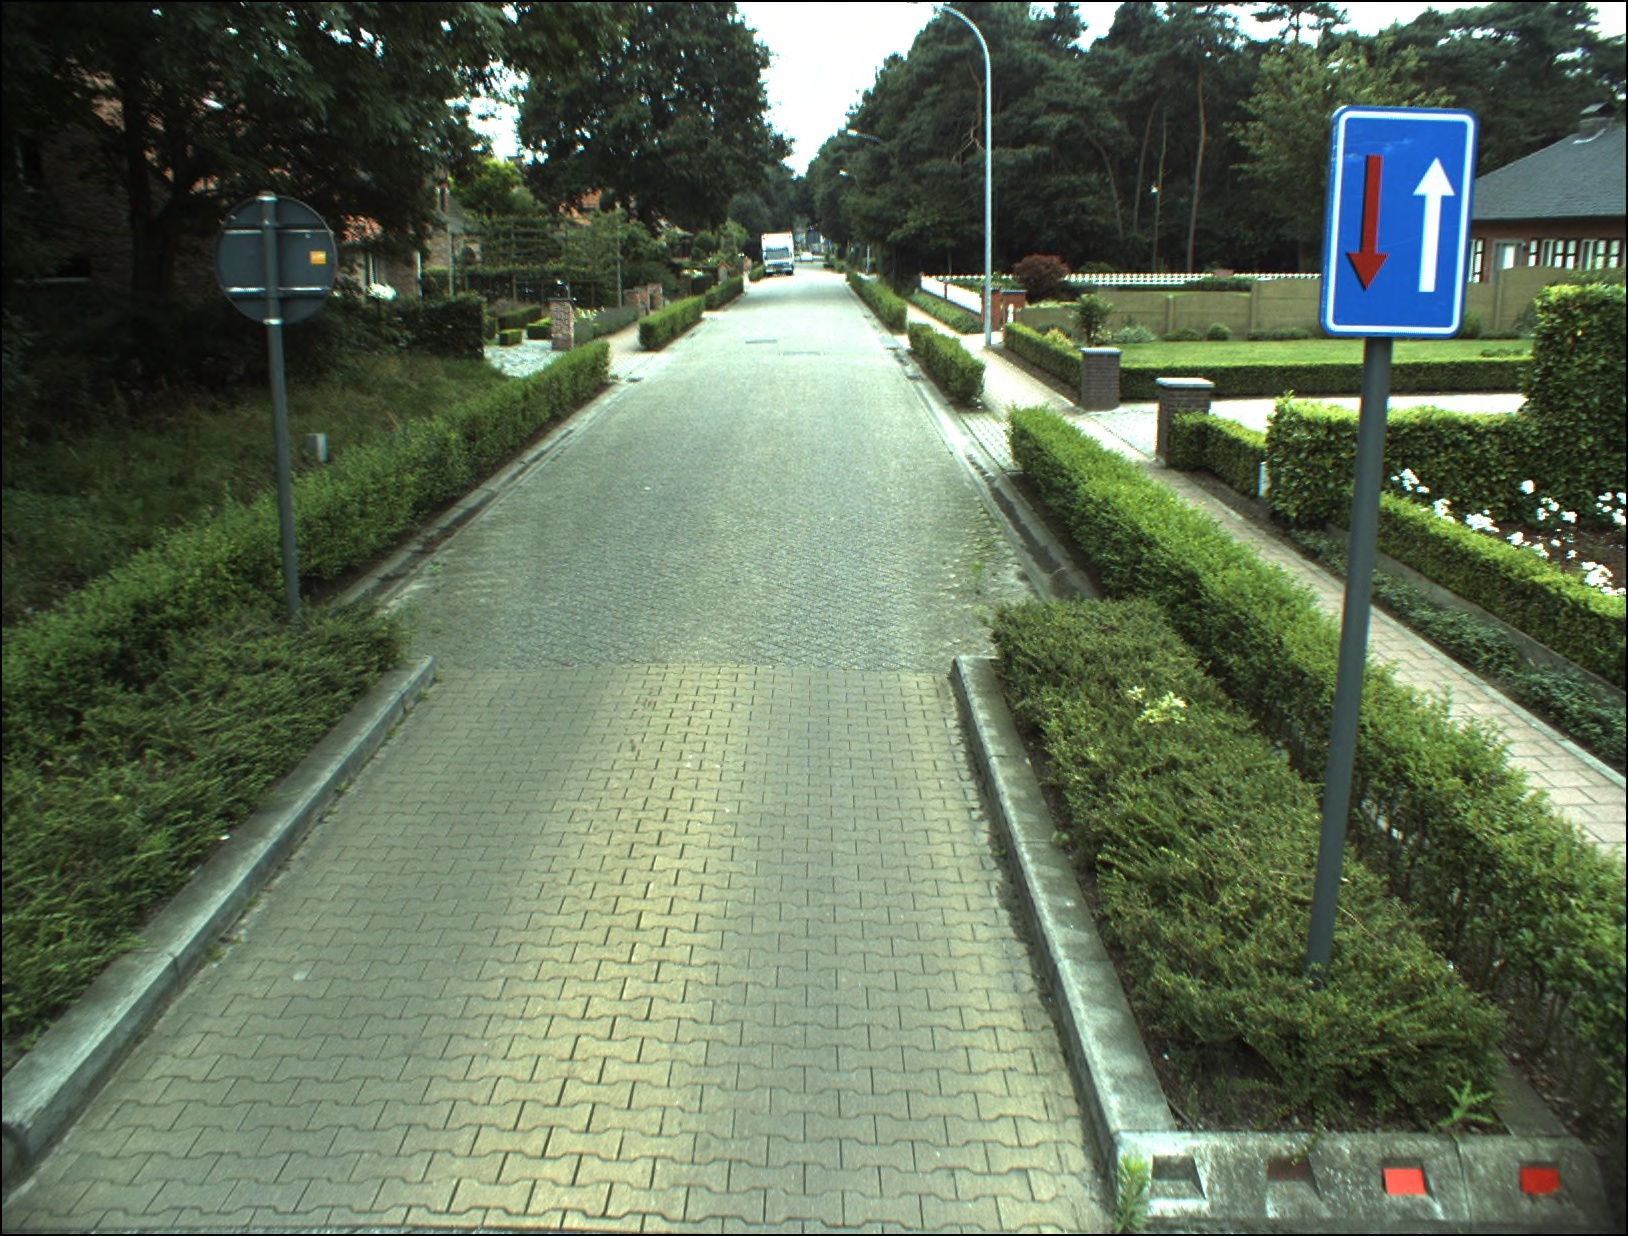roadnarrow1: (1331, 108, 1463, 328)
